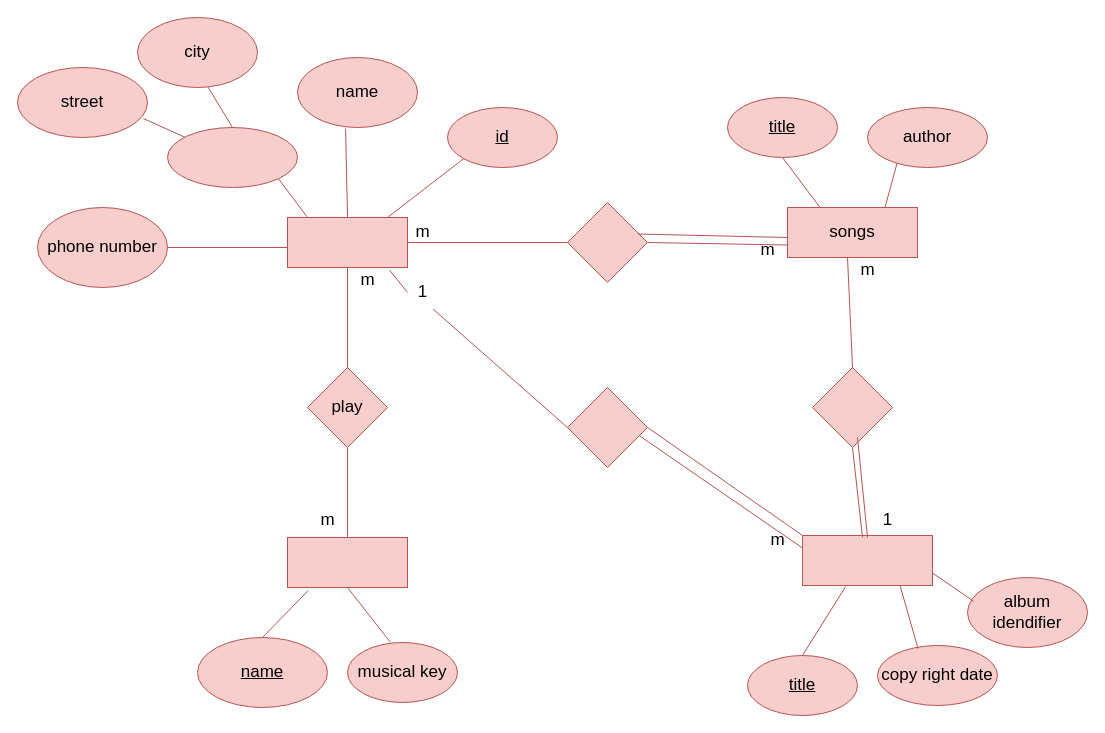
Some shapes in this 1105 by 733 pixel diagram are drawn without their labels. The centre of each missing label's shape, as x and y in pixels:
"address" goes at point 232,157.
"albums" goes at point 867,560.
"has" goes at point 852,407.
"instument" goes at point 347,562.
"Musicians" goes at point 347,242.
"perform" goes at point 607,242.
"produce" goes at point 607,427.
